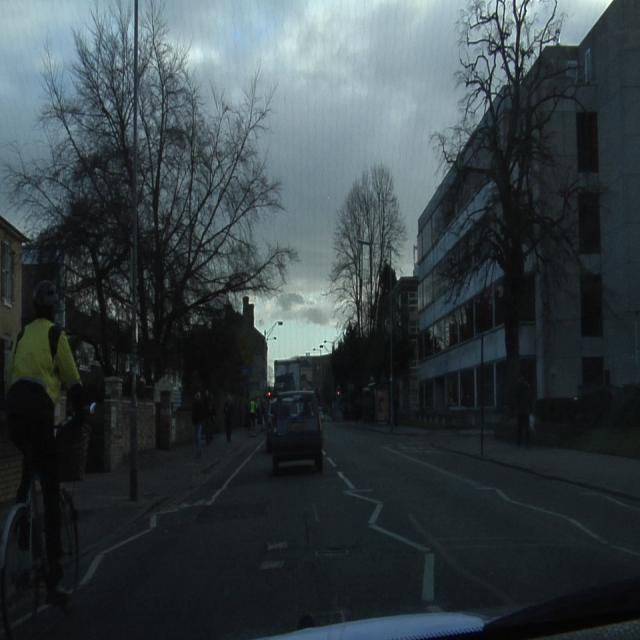Bicyclist: (0, 280, 84, 638)
Car: (271, 392, 322, 474)
Road: (38, 423, 640, 638)
Tree: (418, 0, 578, 406), (139, 5, 294, 382), (6, 3, 132, 375), (330, 165, 406, 335)
